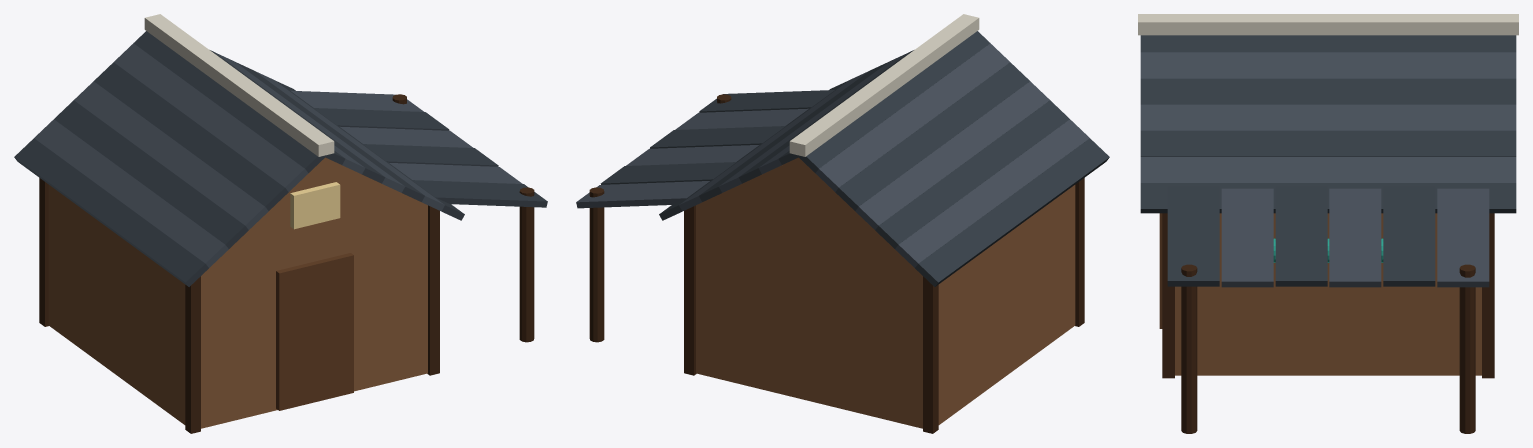
The model's file is nogita_banya_hut.glb.
3 renders of one model, left to right at view 1: azimuth 30°, elevation 25°; view 2: azimuth 150°, elevation 25°; view 3: azimuth 270°, elevation 25°, orthographic. The views are drawn at different scales.
Visible parts, largest first — view 1: Cube; view 2: Cube; view 3: Cube.
Boxes of the visible parts, x1=… form: Cube: x1=14, y1=14, x2=547, y2=433; Cube: x1=576, y1=14, x2=1109, y2=433; Cube: x1=1138, y1=14, x2=1518, y2=433.
Bounding box in the file's own units: 5.27 × 3.61 × 4.24.
